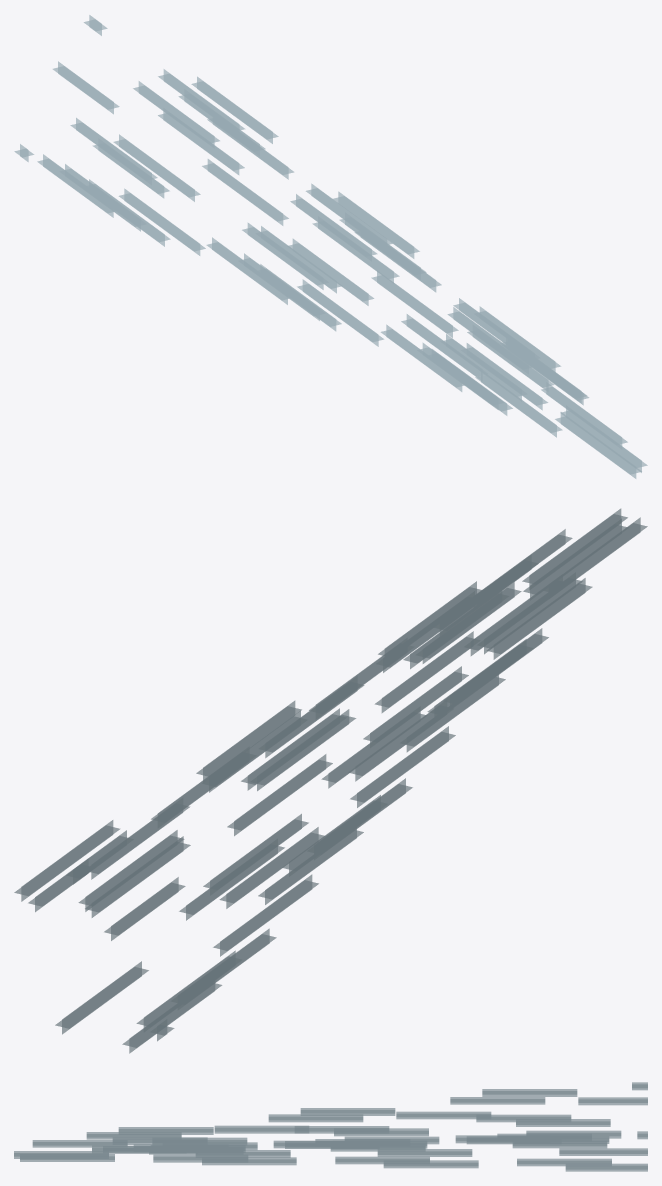
The model's file is wp_water_350.obj.
The picture shows the model from 3 angles, top to bottom: view 1: azimuth 30°, elevation 25°; view 2: azimuth 150°, elevation 25°; view 3: azimuth 270°, elevation 25°; orthographic projection. The views are drawn at different scales.
Bounding box in the file's own units: 0.2866 × 0.2595 × 1.6.
Materials: 1 (1 with a texture image).
